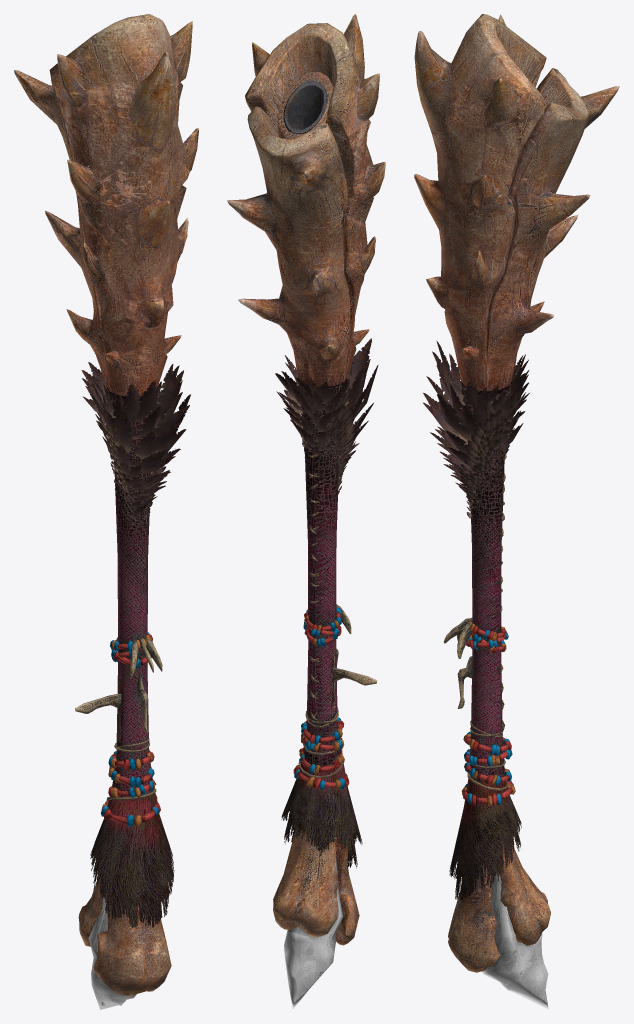
Rendered from rod005.obj.
3 renders of one model, left to right at view 1: azimuth 30°, elevation 25°; view 2: azimuth 150°, elevation 25°; view 3: azimuth 270°, elevation 25°, orthographic. The views are drawn at different scales.
Visible parts, largest first — view 1: rod005_000_LOD_1; view 2: rod005_000_LOD_1; view 3: rod005_000_LOD_1.
Part boxes in pixels (x1,y1,x2,y2): rod005_000_LOD_1: (14, 14, 198, 1009); rod005_000_LOD_1: (227, 14, 385, 1009); rod005_000_LOD_1: (414, 14, 619, 1009).
Size of the model in its own units: 52.42 by 377 by 70.77.
